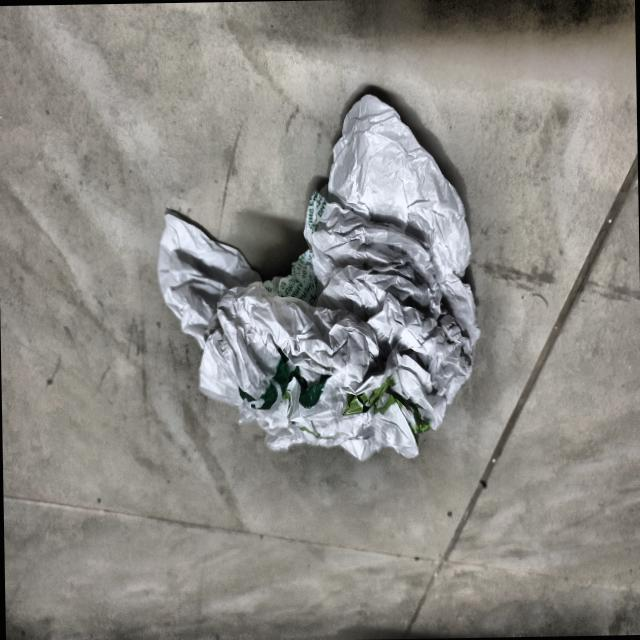plastic bag: (142, 80, 500, 474)
